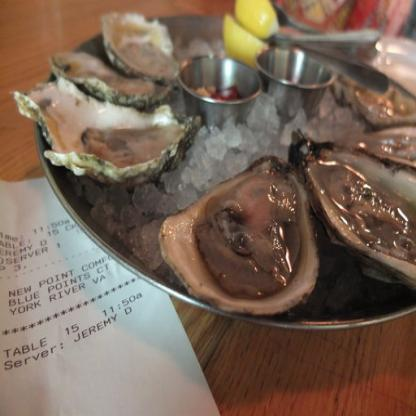oyster: (157, 154, 318, 318), (19, 78, 191, 184), (303, 141, 415, 289), (99, 12, 190, 88)
